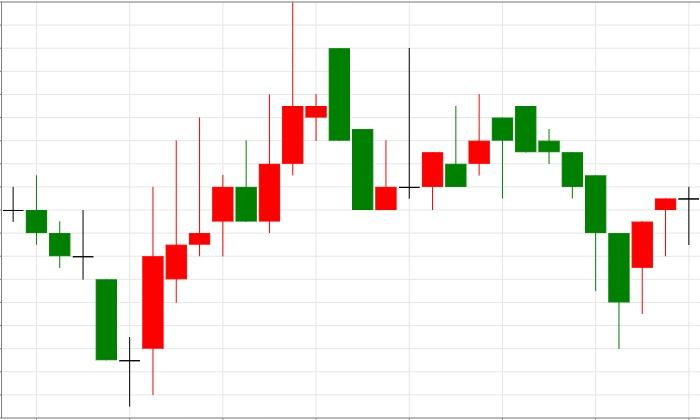morning_star_rise: (4, 174, 164, 407)
